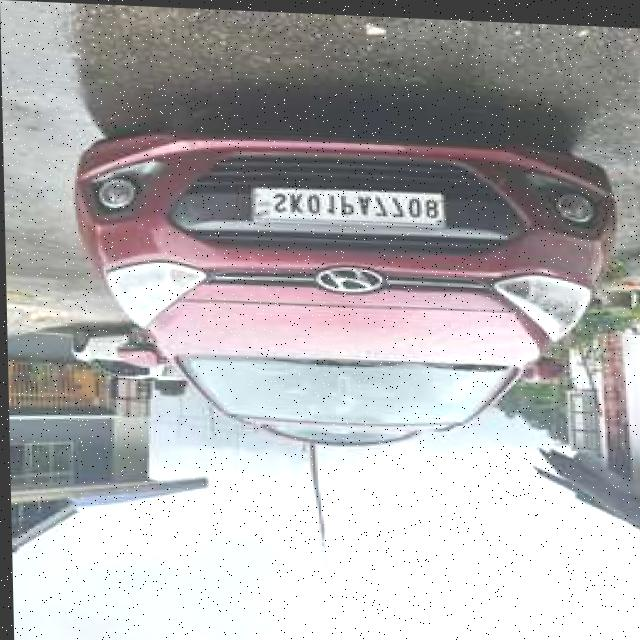plate: (246, 179, 448, 229)
